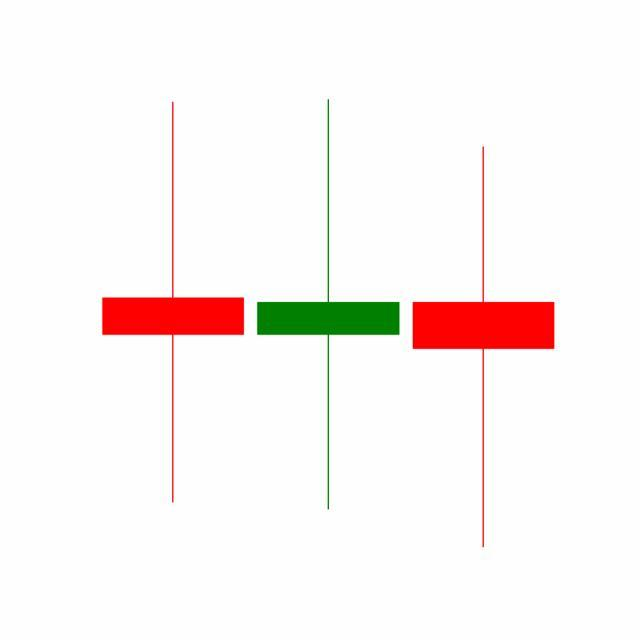Spinning Top: (406, 143, 562, 553)
